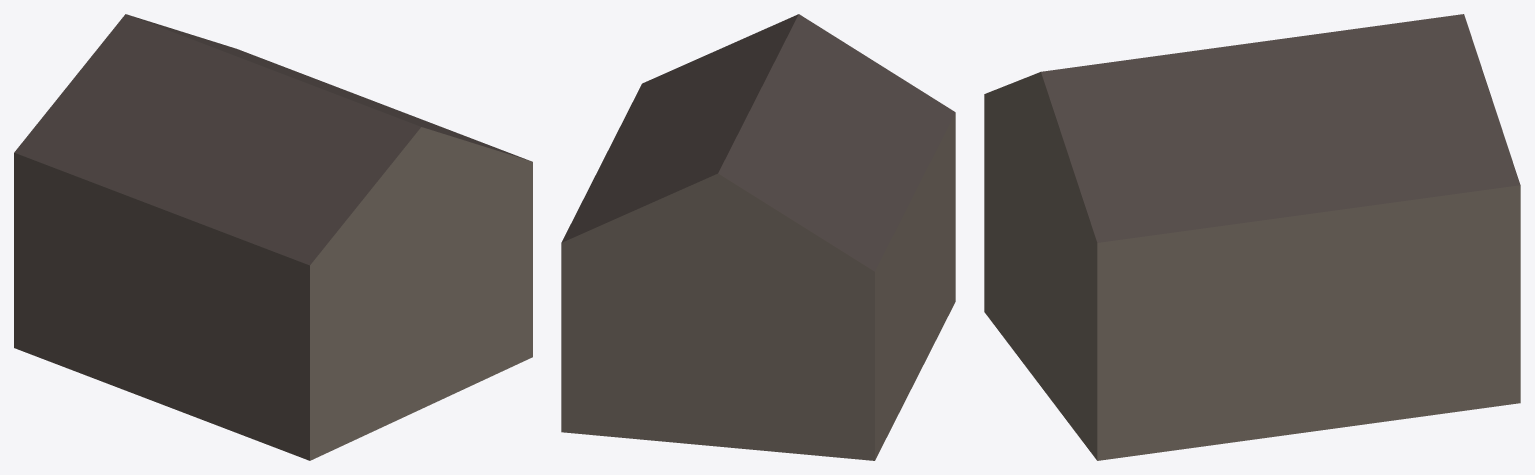
3 views of the same model, side by side, from view 1: azimuth 30°, elevation 25°; view 2: azimuth 150°, elevation 25°; view 3: azimuth 270°, elevation 25° (orthographic). The views are drawn at different scales.
Visible parts, largest first — view 1: HP-w1367350968; view 2: HP-w1367350968; view 3: HP-w1367350968.
Boxes of the visible parts, x1,y1,x2,y2 form: HP-w1367350968: [14, 14, 532, 460]; HP-w1367350968: [561, 14, 955, 460]; HP-w1367350968: [984, 14, 1520, 460].
Size of the model in its own units: 12.2 by 8.66 by 13.37.
